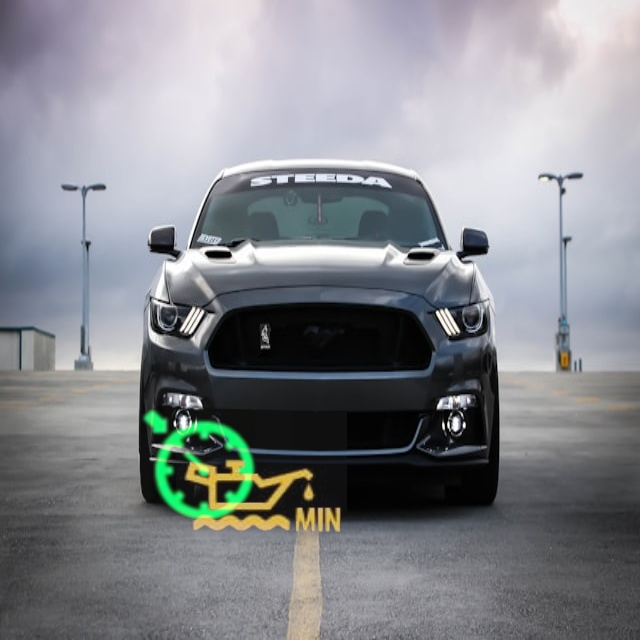symbol: (105, 373, 292, 560), (176, 412, 347, 583)
